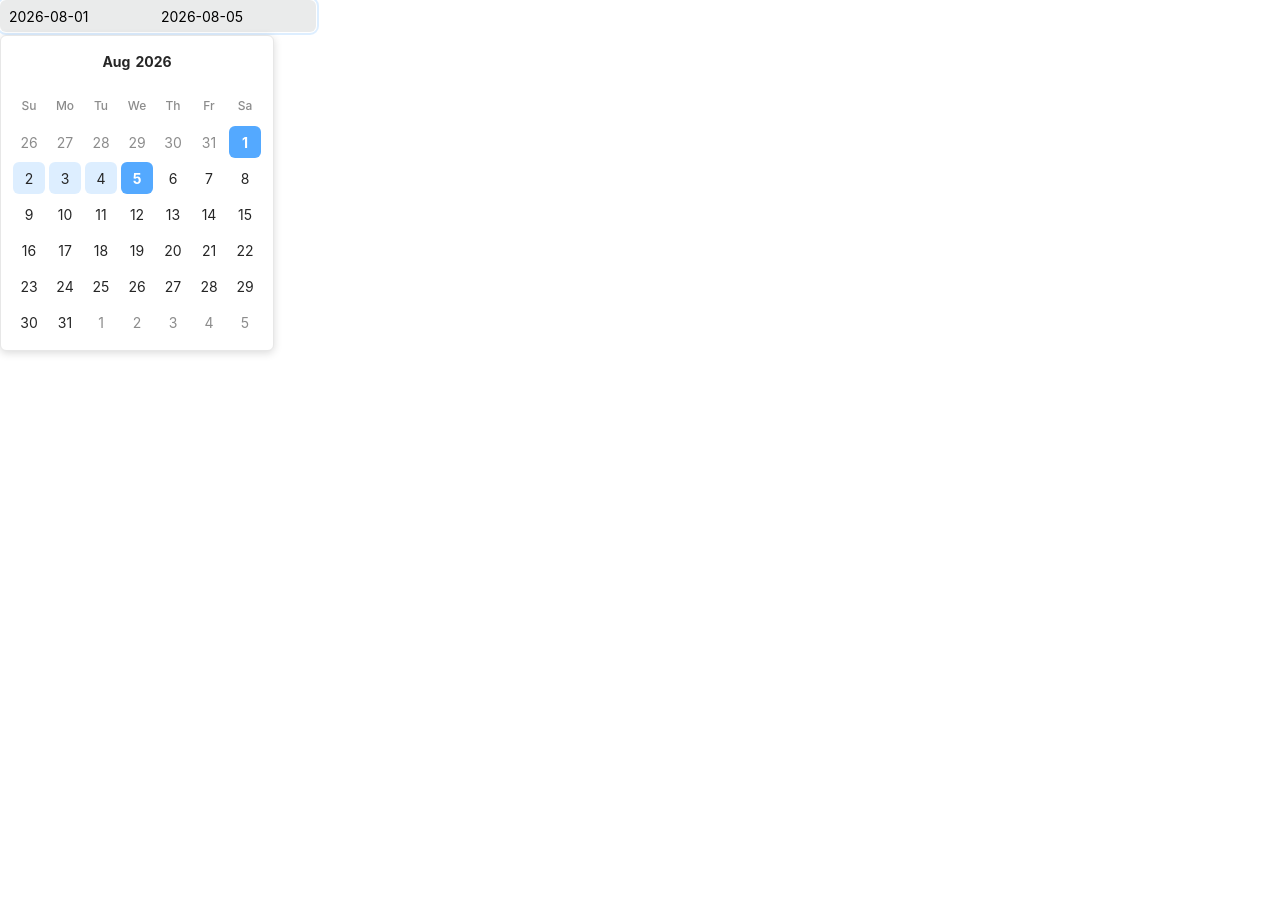
Test case: Escape closes a half range › restores the committed range after picking only a start date
Click the 1st cell with class "k-picker-day": (29, 142) left=20, top=134, right=38, bottom=151
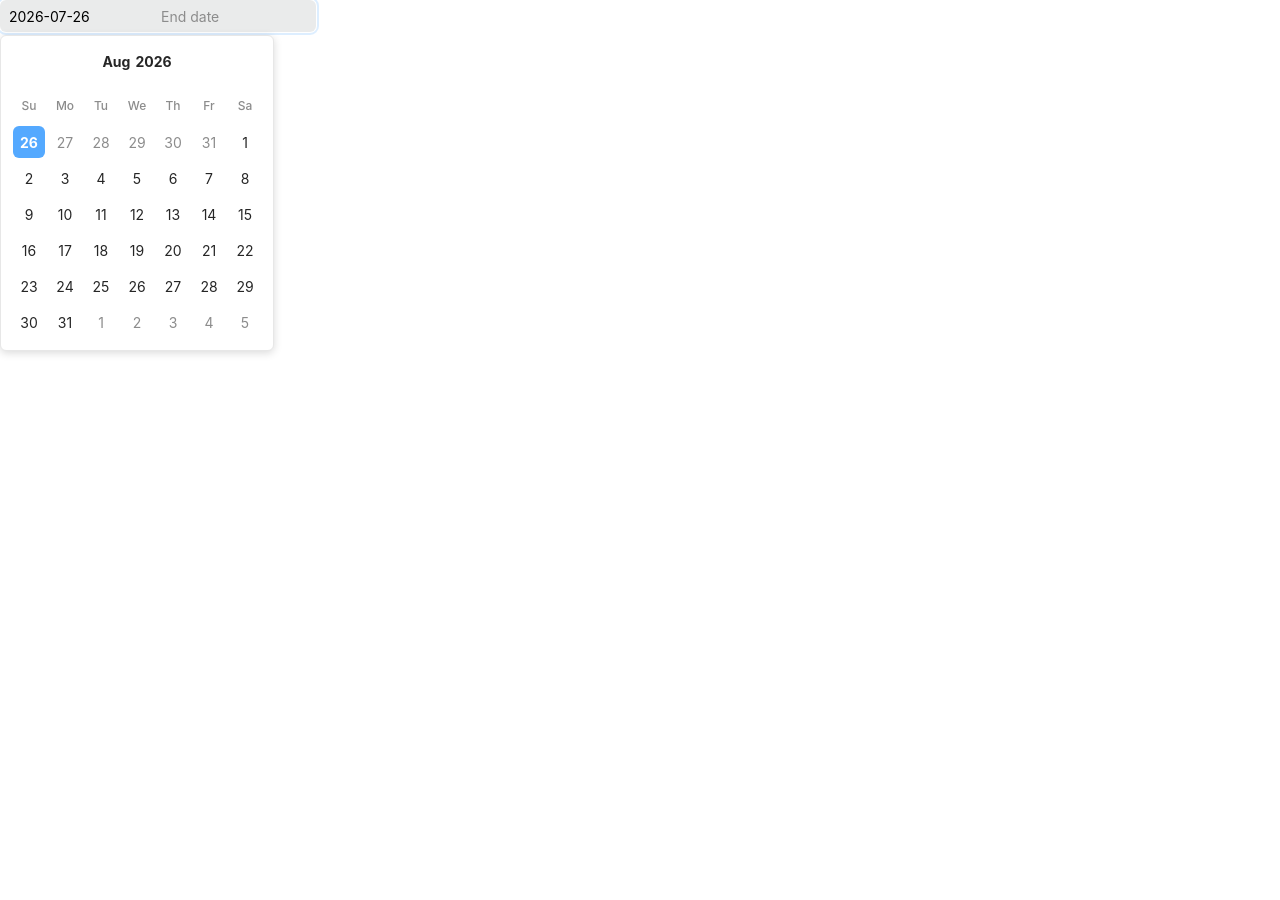
Press Escape in the element with class "k-datepicker", box left=0, top=0, right=316, bottom=32
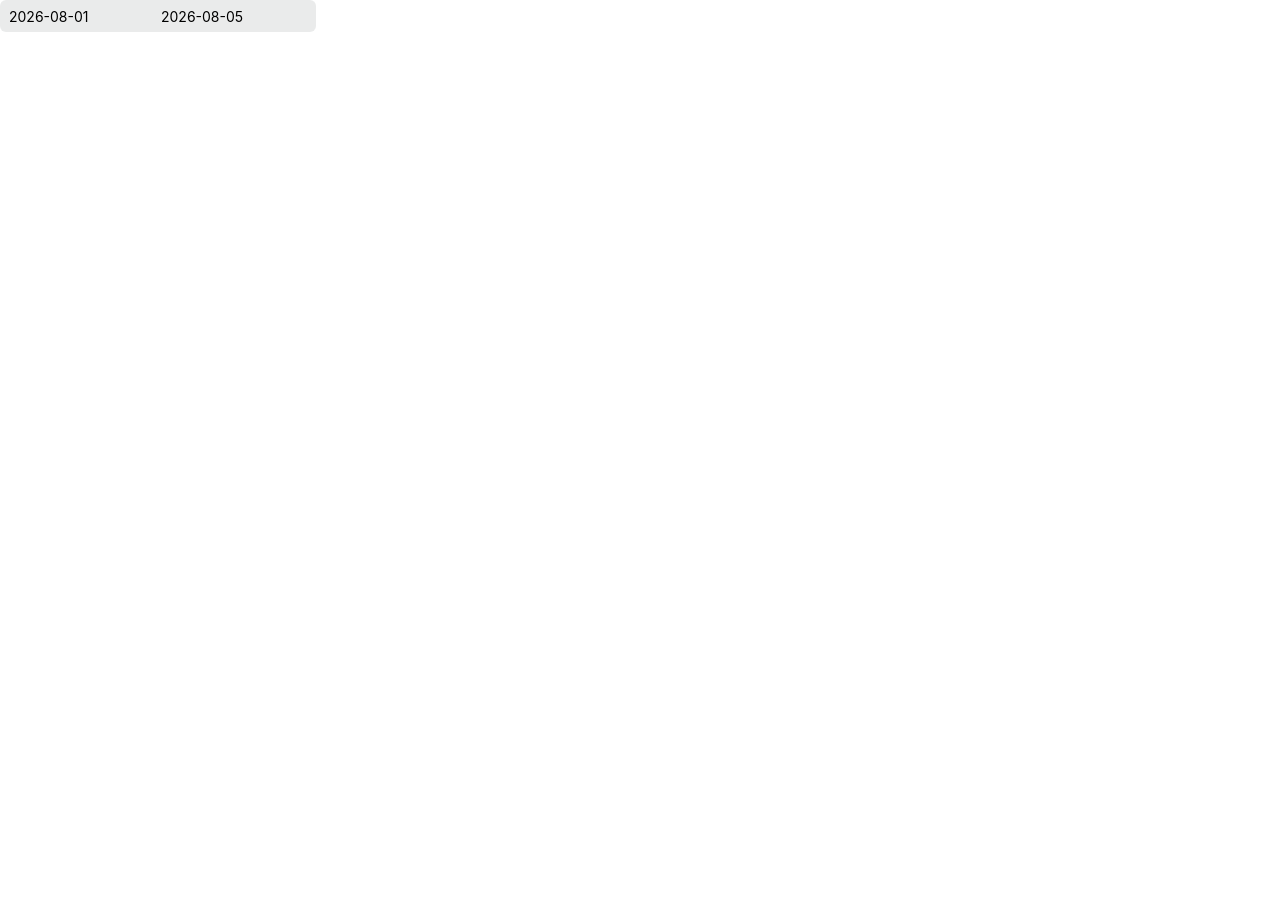
expect the 1st field with class "k-datepicker-input" holds "2026-08-01": met, box left=9, top=8, right=137, bottom=24
expect the 2nd field with class "k-datepicker-input" holds "2026-08-05": met, box left=161, top=8, right=289, bottom=24
Press Enter in the element with class "k-datepicker", box left=0, top=0, right=316, bottom=32
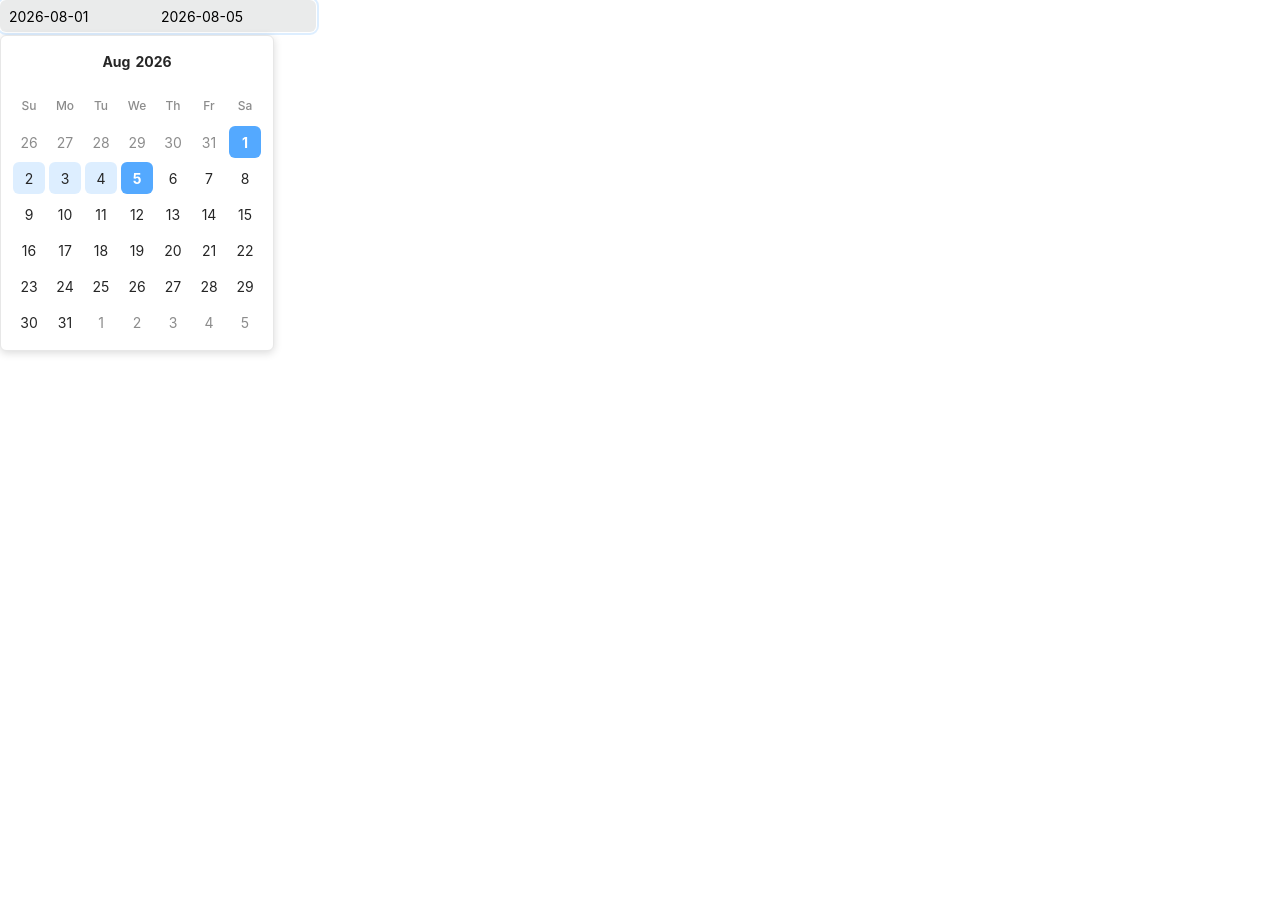
expect the 1st cell with class "k-picker-day" is shown: met, box left=20, top=134, right=38, bottom=151
expect the number of cells with class "k-picker-day-selected" is 2: met, box left=229, top=126, right=261, bottom=158; left=121, top=162, right=153, bottom=194
